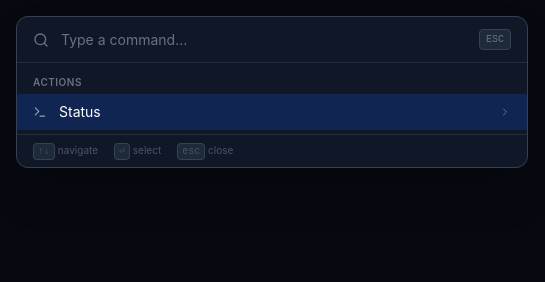
Test: CommandPalette › search filters within current hierarchy level
Expected: the text "Status" is shown, [59,103,101,120]
// Drill in
Press Enter
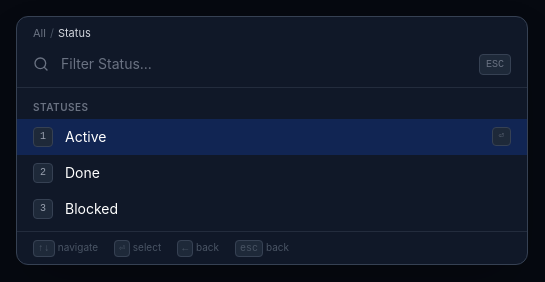
Now the text "Active" is shown, box [65,128,106,145]
Now the text "Done" is shown, box [65,164,100,181]
Now the text "Blocked" is shown, box [65,200,118,217]
// Search should filter within the current level
Type "act" into the field with placeholder "Filter Status..." at (264,64), box [61,54,467,74]
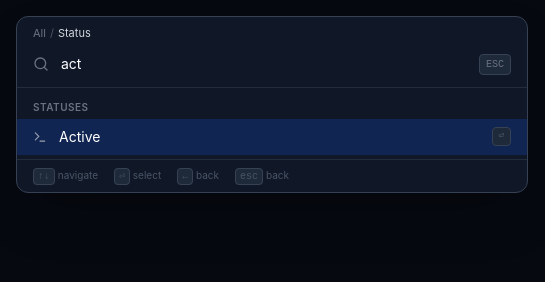
Now the text "Active" is shown, box [59,128,100,145]
Now the button "Done" is gone
Now the button "Blocked" is gone
